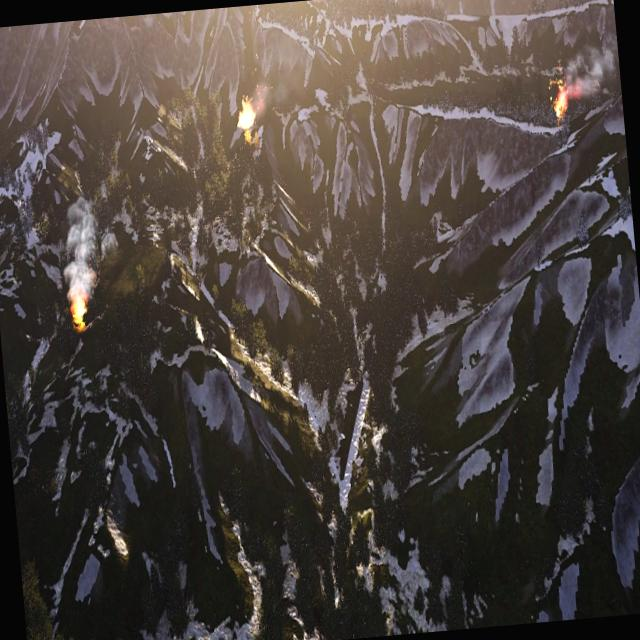fire: (548, 63, 568, 120), (236, 98, 259, 132), (70, 296, 88, 326)
smoke: (54, 194, 122, 303), (558, 42, 618, 102), (252, 80, 275, 120)
